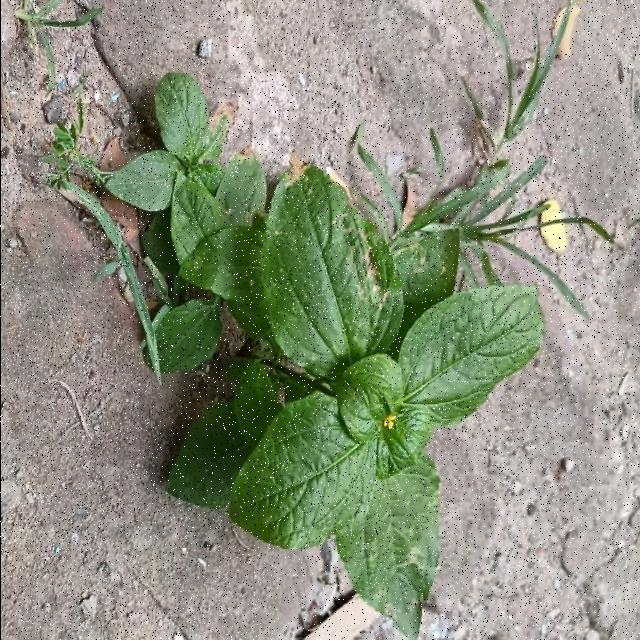weed: (106, 74, 544, 638)
